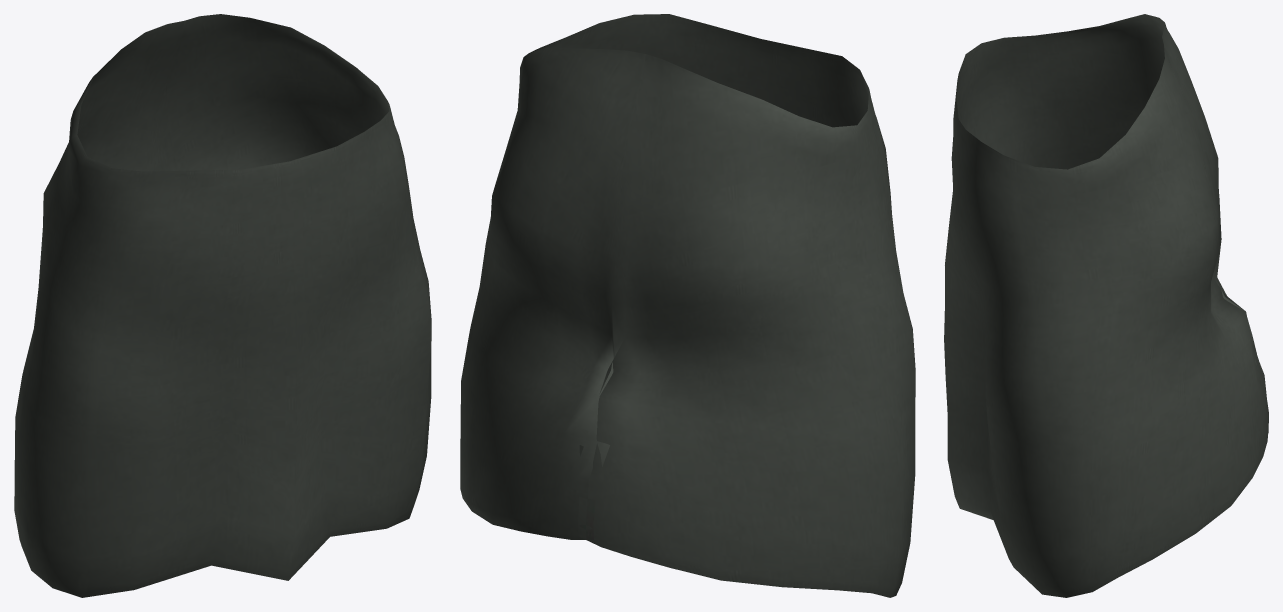
File: bottom_pencil_skirt.gltf
3 views of the same model, side by side, from view 1: azimuth 30°, elevation 25°; view 2: azimuth 150°, elevation 25°; view 3: azimuth 270°, elevation 25° (orthographic). The views are drawn at different scales.
Parts seen in each view (by area): view 1: bottom_pencil_skirt; view 2: bottom_pencil_skirt; view 3: bottom_pencil_skirt.
Part boxes in pixels (x1,y1,x2,y2): bottom_pencil_skirt: (14,14,431,597); bottom_pencil_skirt: (460,14,915,597); bottom_pencil_skirt: (944,14,1268,597).
Bounding box in the file's own units: 0.4018 × 0.484 × 0.297.
Materials: 1 (1 with a texture image).
